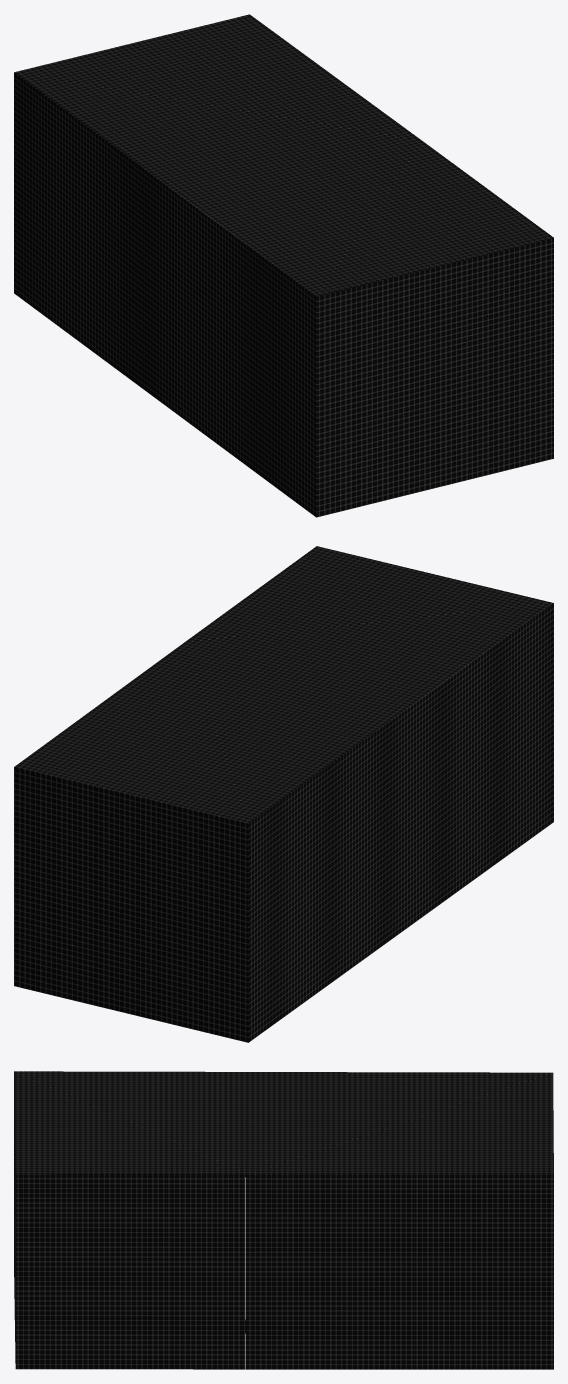
The model's file is stage002.fbx.
The picture shows the model from 3 angles, top to bottom: view 1: azimuth 30°, elevation 25°; view 2: azimuth 150°, elevation 25°; view 3: azimuth 270°, elevation 25°; orthographic projection. The views are drawn at different scales.
Parts seen in each view (by area): view 1: New_Game_Object; view 2: New_Game_Object; view 3: New_Game_Object.
Boxes of the visible parts, <box> form: New_Game_Object: <box>14,14,553,517</box>; New_Game_Object: <box>14,546,553,1042</box>; New_Game_Object: <box>14,1071,553,1369</box>.
Bounding box in the file's own units: 4531 × 3994 × 10015.
